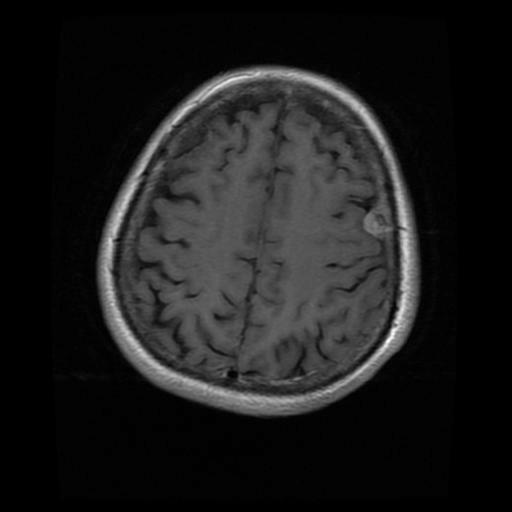Tumour-Meningioma: (351, 194, 412, 252)
